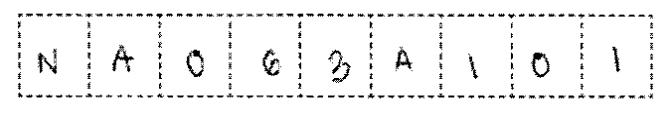0: (180, 43, 212, 84), (526, 47, 556, 82)
1: (455, 48, 490, 83), (604, 40, 632, 78)
3: (320, 45, 355, 87)
6: (256, 42, 286, 82)
A: (106, 36, 136, 78), (390, 42, 421, 81)
N: (32, 46, 67, 83)
